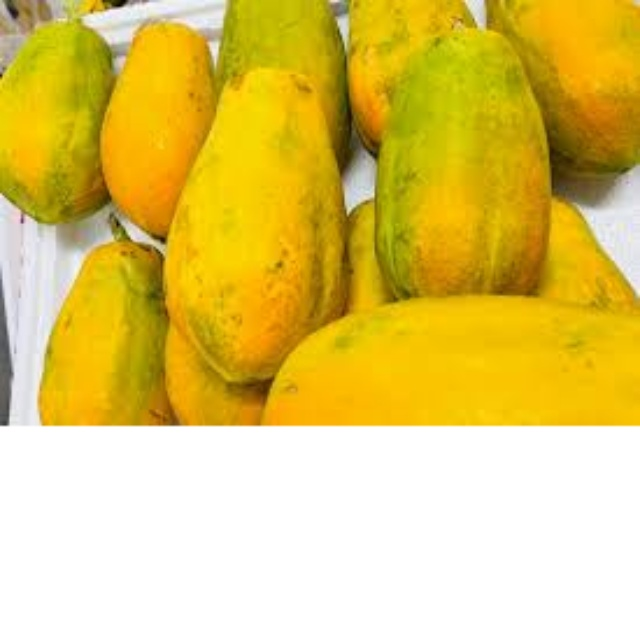du_du: (168, 59, 355, 372), (375, 11, 560, 305), (33, 226, 174, 425), (1, 23, 110, 217), (111, 18, 213, 224)
